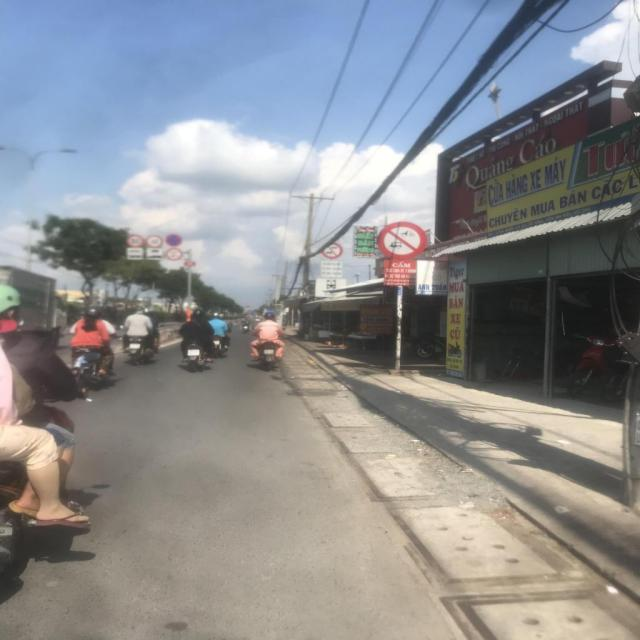cam_cac_loai_xe_3_banh: (377, 221, 427, 260)
cam_dung_xe_va_do_xe: (166, 234, 183, 247)
cam_o_to_tai_va_xe_khach: (321, 243, 344, 259)
cam_xe_2_banh_va_xe_3_banh_co_dong_co: (165, 248, 183, 262)
khac: (316, 279, 346, 297), (320, 260, 342, 278), (126, 248, 144, 254), (146, 255, 162, 260), (128, 254, 143, 259), (147, 249, 162, 254)
toc_do_toi_da_60: (146, 236, 162, 248)
toc_do_toi_da_80: (126, 235, 144, 248)
